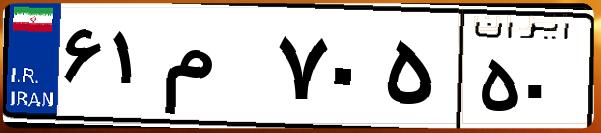0: (330, 28, 385, 110), (525, 38, 570, 115)
1: (110, 28, 158, 98)
5: (385, 28, 445, 110), (475, 38, 525, 113)
6: (57, 26, 110, 100)
7: (270, 28, 330, 110)
م: (158, 20, 270, 120)
